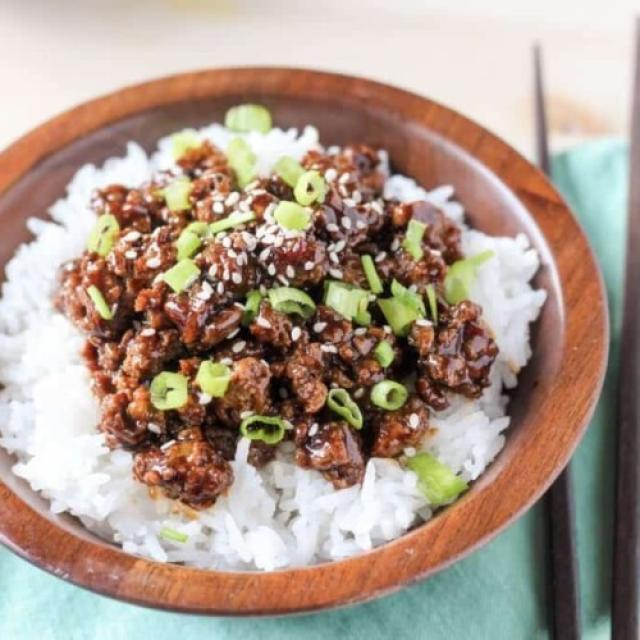Chicken: (56, 123, 498, 508)
Rice: (0, 137, 429, 570), (466, 232, 539, 360), (428, 366, 508, 477)
